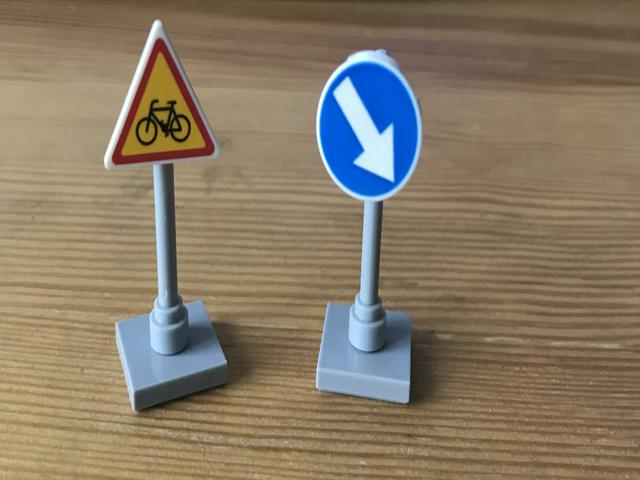radfahrer: (108, 30, 216, 167)
rechts halten: (313, 57, 422, 198)
